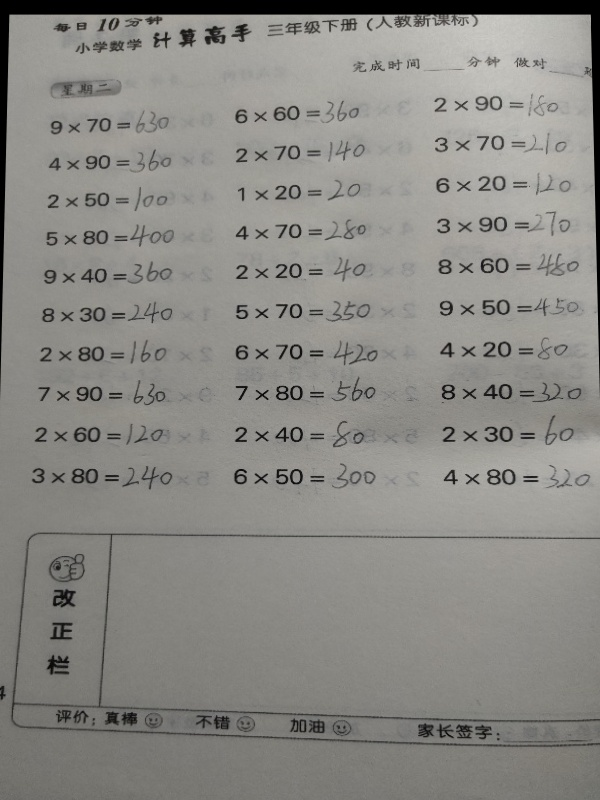equation: (438, 415, 577, 454), (440, 460, 594, 494), (230, 459, 380, 493), (230, 418, 368, 453), (28, 462, 176, 494), (235, 375, 383, 407), (230, 336, 382, 367), (435, 250, 582, 280), (233, 254, 369, 286), (34, 375, 169, 407), (433, 206, 577, 236), (436, 333, 572, 364), (430, 87, 570, 117), (35, 338, 170, 369), (43, 219, 182, 249), (436, 378, 583, 406), (32, 419, 173, 448), (232, 297, 374, 325), (232, 139, 368, 168), (44, 148, 175, 178), (230, 216, 370, 244), (38, 299, 176, 327), (43, 184, 176, 213), (435, 293, 583, 319), (230, 97, 362, 126), (40, 261, 176, 289), (46, 107, 172, 137), (431, 171, 574, 197), (234, 178, 364, 206), (431, 131, 569, 157)
